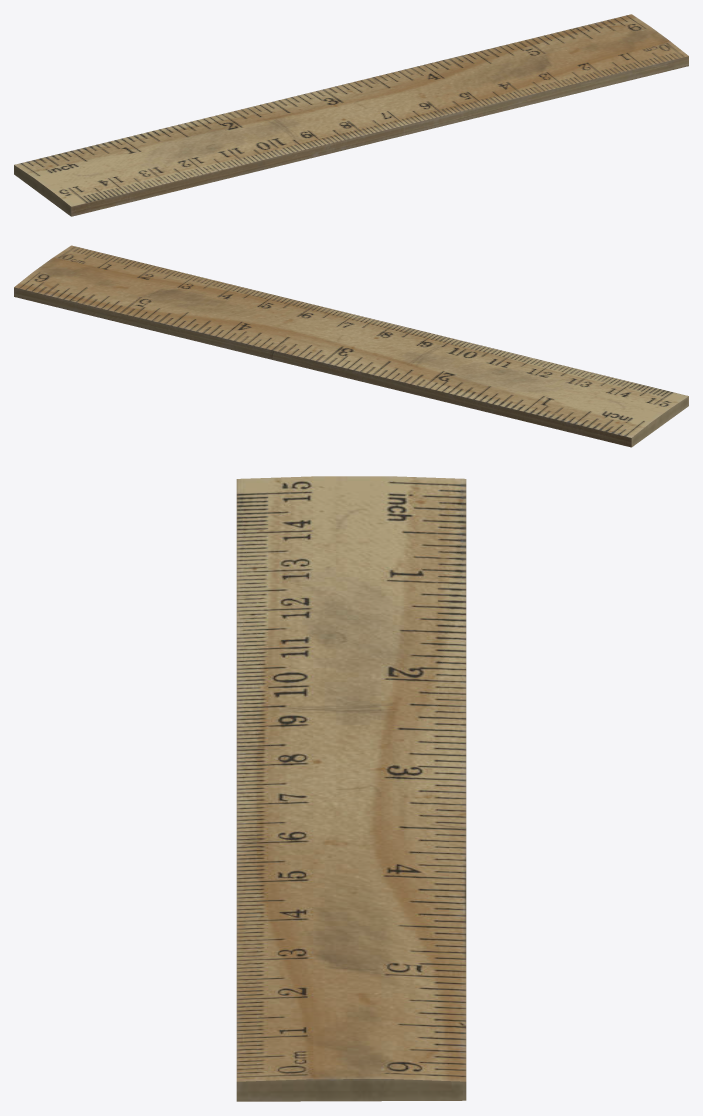
Rendered from ruler.glb.
3 views of the same model, one above another, from view 1: azimuth 30°, elevation 25°; view 2: azimuth 150°, elevation 25°; view 3: azimuth 270°, elevation 25° (orthographic). The views are drawn at different scales.
Visible parts, largest first — view 1: Ruler_Low; view 2: Ruler_Low; view 3: Ruler_Low.
Boxes of the visible parts, left/top/right/bottom form: Ruler_Low: left=14, top=14, right=688, bottom=216; Ruler_Low: left=14, top=245, right=688, bottom=447; Ruler_Low: left=236, top=476, right=466, bottom=1101.
Size of the model in its own units: 0.1549 by 0.00272 by 0.0249.
1 material, 1 textured.
